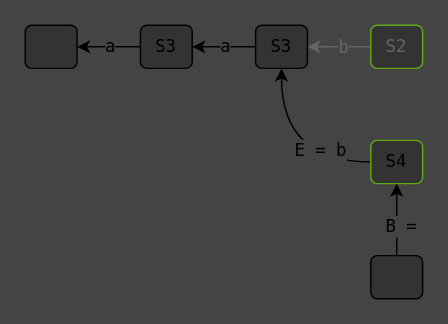
Image size: 448x324. Some labels were removed from this diagram. The shapes that lost their labels are listed below. From the top down, each one's centre as x and y in pixels, then its label:
At point (50, 46): "S0".
At point (396, 276): "S5".
